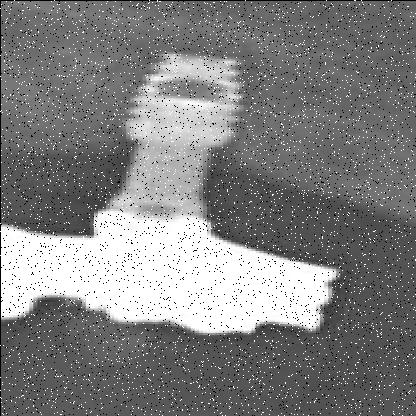Bicon: (98, 36, 255, 217)
